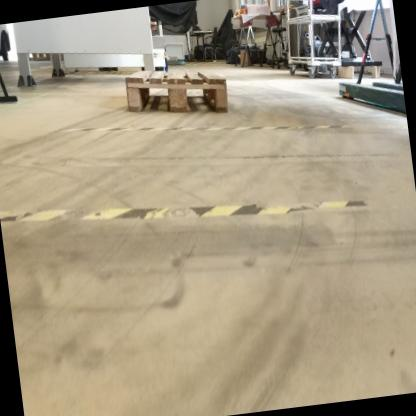BoxFace: (119, 64, 232, 113)
